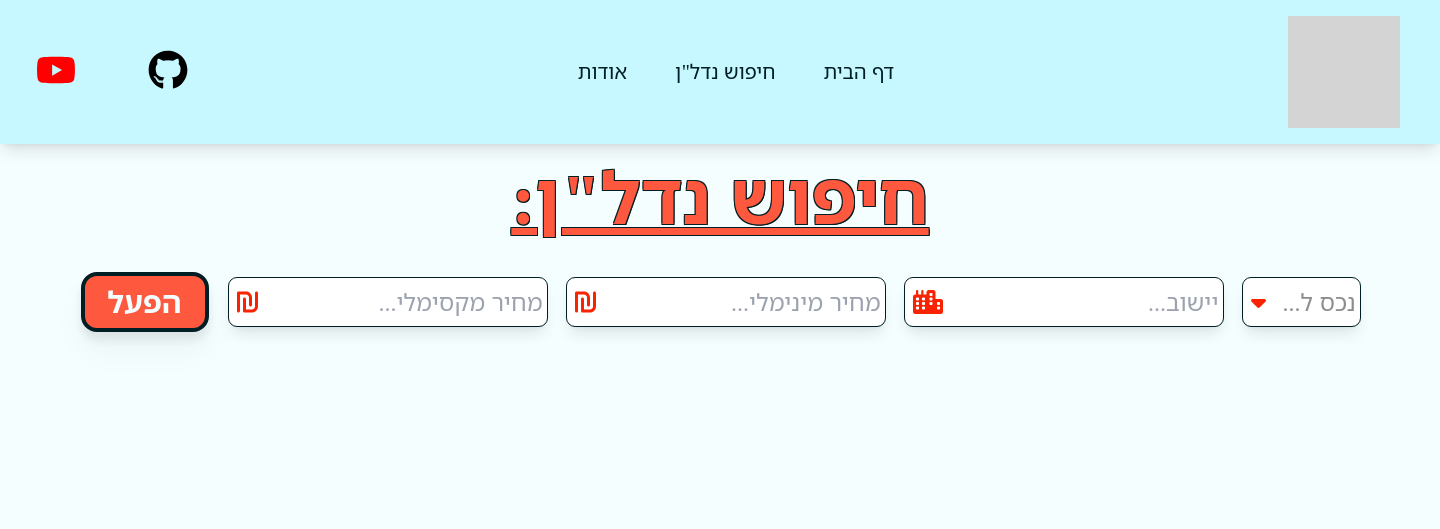
Test: Search Page › search form › settlement search field › displays a menu with settlement names that match the user input (if there are any)
Step 1. Type "חול" into the field with test id "feature-search-form-settlement-search-field-input" → (1064, 302), box x1=905 y1=278 x2=1223 y2=326
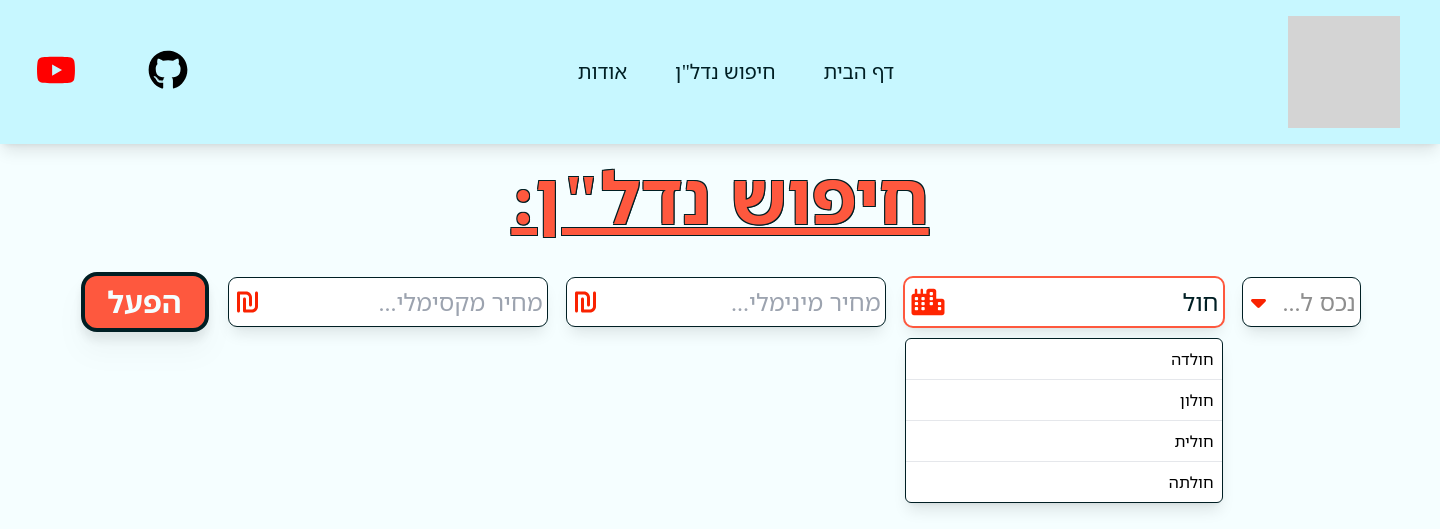
Now the element with test id "feature-search-form-settlement-search-field-menu" is shown, box x1=905 y1=338 x2=1223 y2=503
Now the number of buttons with test id "feature-search-form-settlement-search-field-menu-item" is at most 5
Now the button with test id "feature-search-form-settlement-search-field-menu-item" shows "חול", box x1=906 y1=339 x2=1222 y2=379
Step 2. Type "חולולולול" into the field with test id "feature-search-form-settlement-search-field-input" → (1064, 302), box x1=905 y1=278 x2=1223 y2=326
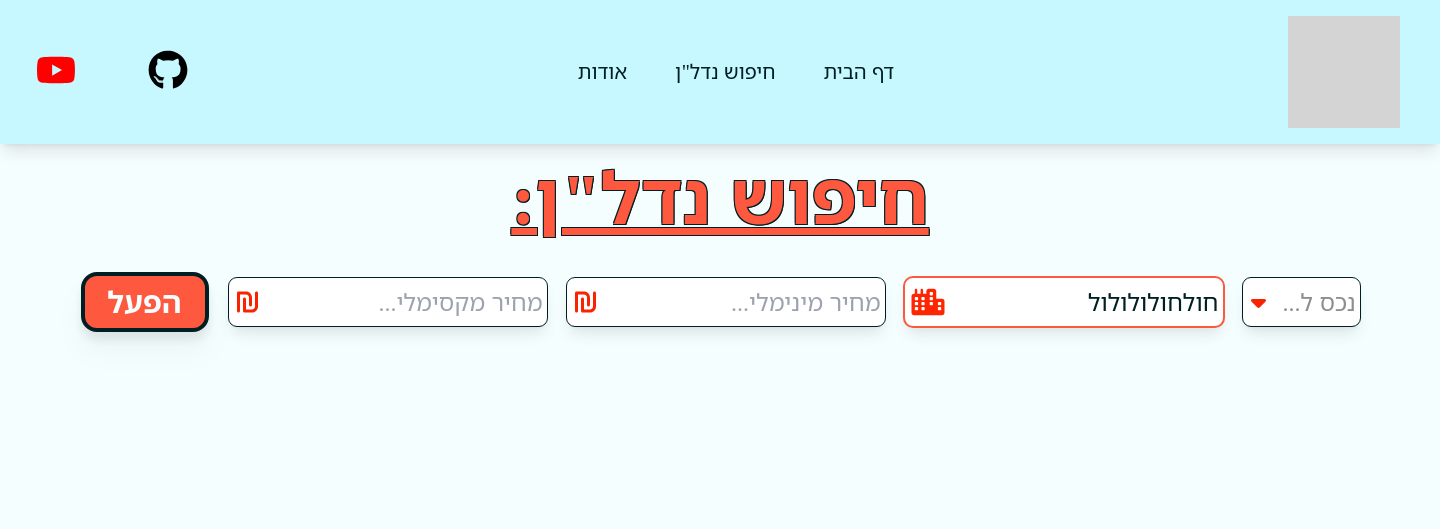
Now the element with test id "feature-search-form-settlement-search-field-menu" is gone
